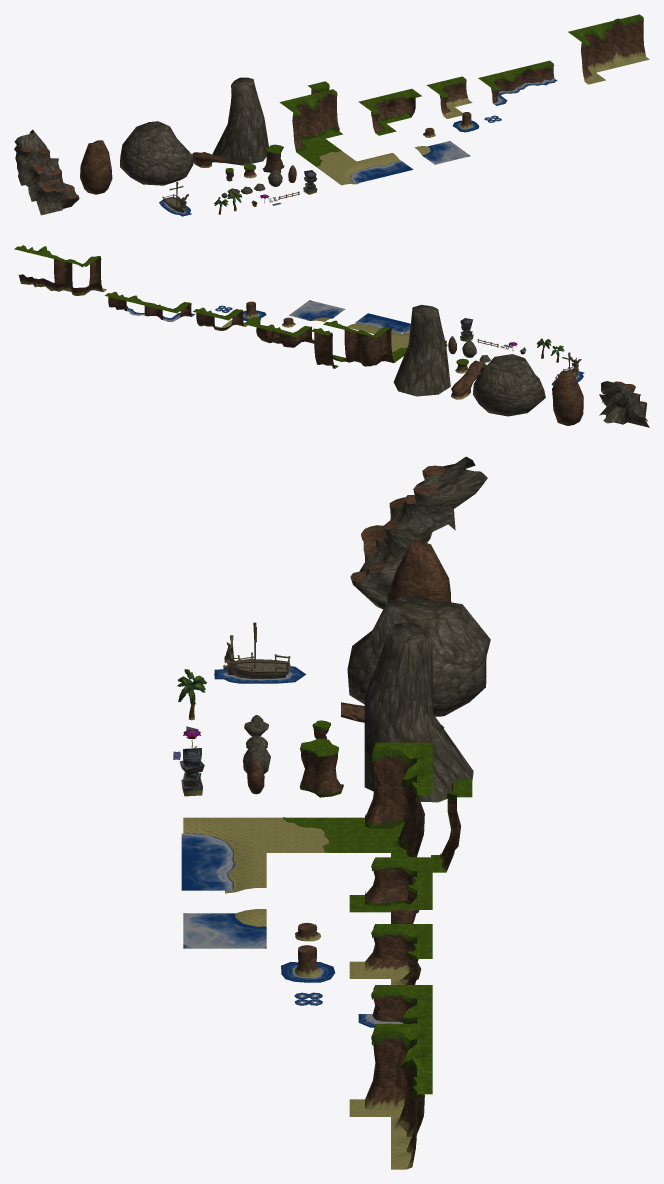
The model's file is CBT-BeachPack.FBX.
The picture shows the model from 3 angles, top to bottom: view 1: azimuth 30°, elevation 25°; view 2: azimuth 150°, elevation 25°; view 3: azimuth 270°, elevation 25°; orthographic projection. The views are drawn at different scales.
Parts seen in each view (by area): view 1: RockBigFat, RockBigTall, MountainPlatforms, RockBig, WallTallSandyInner00, WallTallSandyInner01, WallTallSandyOut, WallTallGrassOut, WallTallGrassInner00, SeaTileInnerRight, SandTileDownInnerLeft, WallSmallSandy (+15 smaller); view 2: RockBigTall, RockBigFat, MountainPlatforms, RockBig, SeaTileInnerRight, WallTallGrassInner01, WallTallGrassOut, WallTallSandyOut, RockBigPath, WallTallGrassInnerLeft, SeaTile, WallTallGrassOutLeft (+6 smaller); view 3: RockBigTall, RockBigFat, MountainPlatforms, SeaTileInnerRight, RockBig, SandTileDownInnerLeft, WallTallGrassOutLeft, WallTallSandyOutLeft, RockPlatform00, SeaTile, WallTallGrassInnerLeft, WallTallSandyInnerLeft (+15 smaller).
Boxes of the visible parts, box(x1,y1,x2,y2) form: RockBigFat: box(120, 121, 193, 185); RockBigTall: box(212, 77, 268, 165); MountainPlatforms: box(14, 129, 79, 215); RockBig: box(80, 140, 112, 194); WallTallSandyInner00: box(604, 18, 631, 68); WallTallSandyInner01: box(622, 14, 649, 63); WallTallSandyOut: box(586, 23, 613, 72); WallTallGrassOut: box(297, 93, 324, 142); WallTallGrassInner00: box(315, 89, 342, 138); SeaTileInnerRight: box(422, 141, 470, 164); SandTileDownInnerLeft: box(321, 161, 363, 185); WallSmallSandy: box(445, 76, 472, 106); RockBigTall: box(393, 304, 450, 396); RockBigFat: box(472, 354, 545, 416); MountainPlatforms: box(599, 381, 649, 427); RockBig: box(552, 370, 583, 425); SeaTileInnerRight: box(289, 300, 345, 320); WallTallGrassInner01: box(311, 328, 338, 368); WallTallGrassOut: box(341, 326, 365, 366); WallTallSandyOut: box(51, 255, 74, 295); RockBigPath: box(451, 360, 484, 399); WallTallGrassInnerLeft: box(359, 328, 387, 366); SeaTile: box(355, 313, 403, 330); WallTallGrassOutLeft: box(376, 326, 397, 364); RockBigTall: box(364, 622, 473, 802); RockBigFat: box(347, 594, 490, 716); MountainPlatforms: box(350, 456, 487, 608); SeaTileInnerRight: box(183, 913, 266, 948); RockBig: box(387, 539, 451, 602); SandTileDownInnerLeft: box(183, 817, 266, 857); WallTallGrassOutLeft: box(349, 742, 390, 835); WallTallSandyOutLeft: box(349, 1024, 390, 1116); RockPlatform00: box(299, 738, 343, 797); SeaTile: box(181, 855, 235, 890); WallTallGrassInnerLeft: box(391, 742, 432, 835); WallTallSandyInnerLeft: box(391, 1024, 432, 1116).
Size of the model in its own units: 22478 by 2723 by 4977.
Materials: 29 (29 with a texture image).
